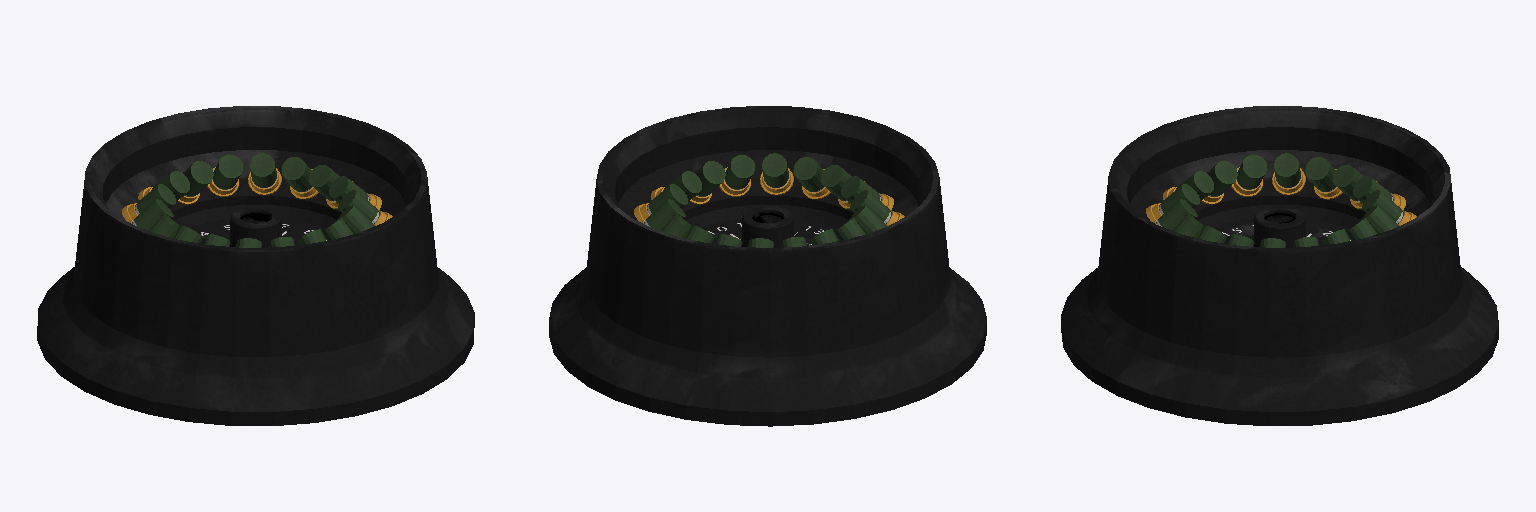
3 renders of one model, left to right at view 1: azimuth 30°, elevation 25°; view 2: azimuth 150°, elevation 25°; view 3: azimuth 270°, elevation 25°, orthographic.
Parts seen in each view (by area): view 1: CI_Centrifuge_vial_holder; view 2: CI_Centrifuge_vial_holder; view 3: CI_Centrifuge_vial_holder.
Boxes of the visible parts, x1=… form: CI_Centrifuge_vial_holder: x1=37, y1=106, x2=474, y2=425; CI_Centrifuge_vial_holder: x1=549, y1=106, x2=986, y2=426; CI_Centrifuge_vial_holder: x1=1061, y1=106, x2=1498, y2=425.
Bounding box in the file's own units: 2.98 × 1.17 × 2.98.
Materials: 1 (1 with a texture image).